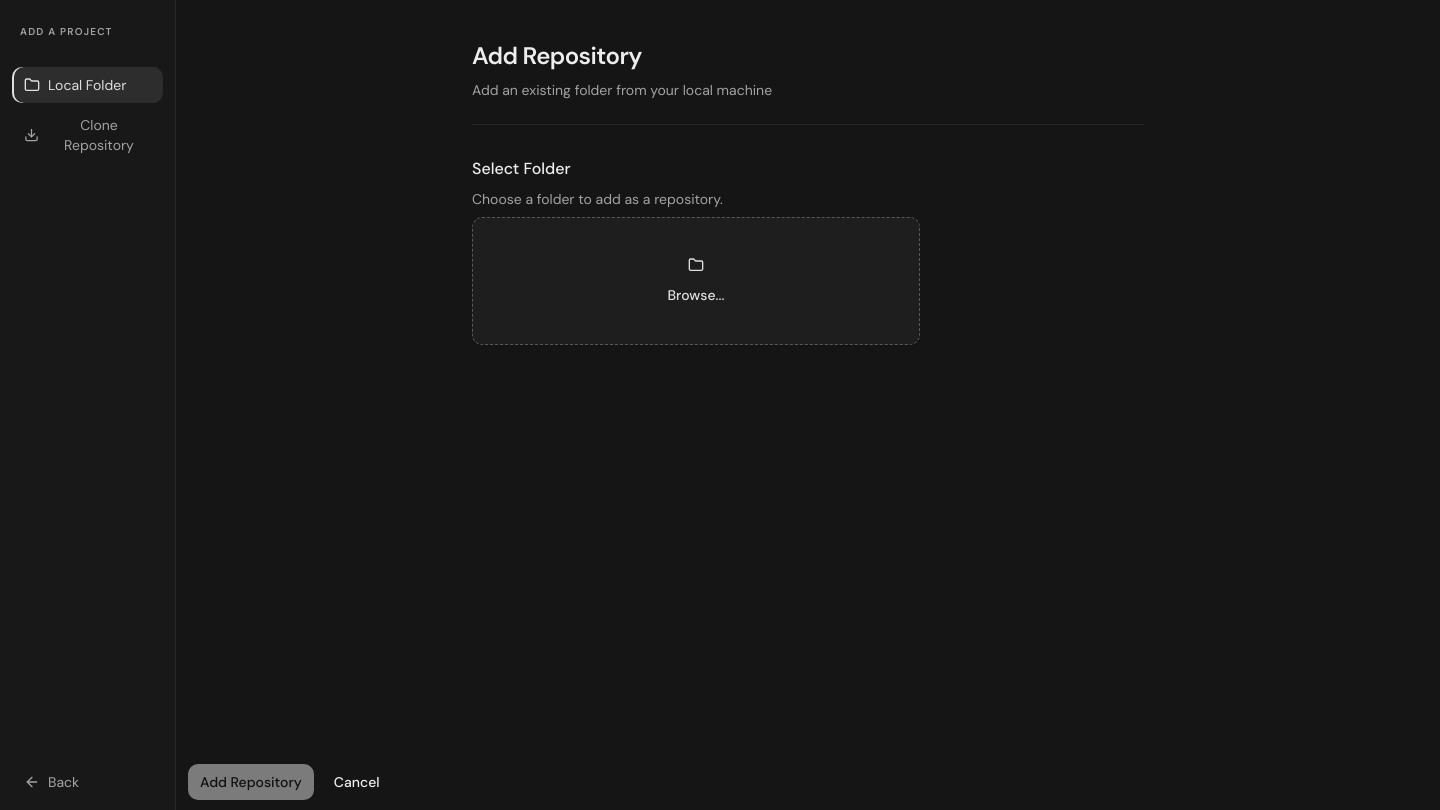
Test case: AddRepositoryScreen › folder selection › shows selected folder after selection
The image size is (1440, 810).
Step 1. Click the button "Browse..." → (696, 295), box [472, 217, 920, 345]
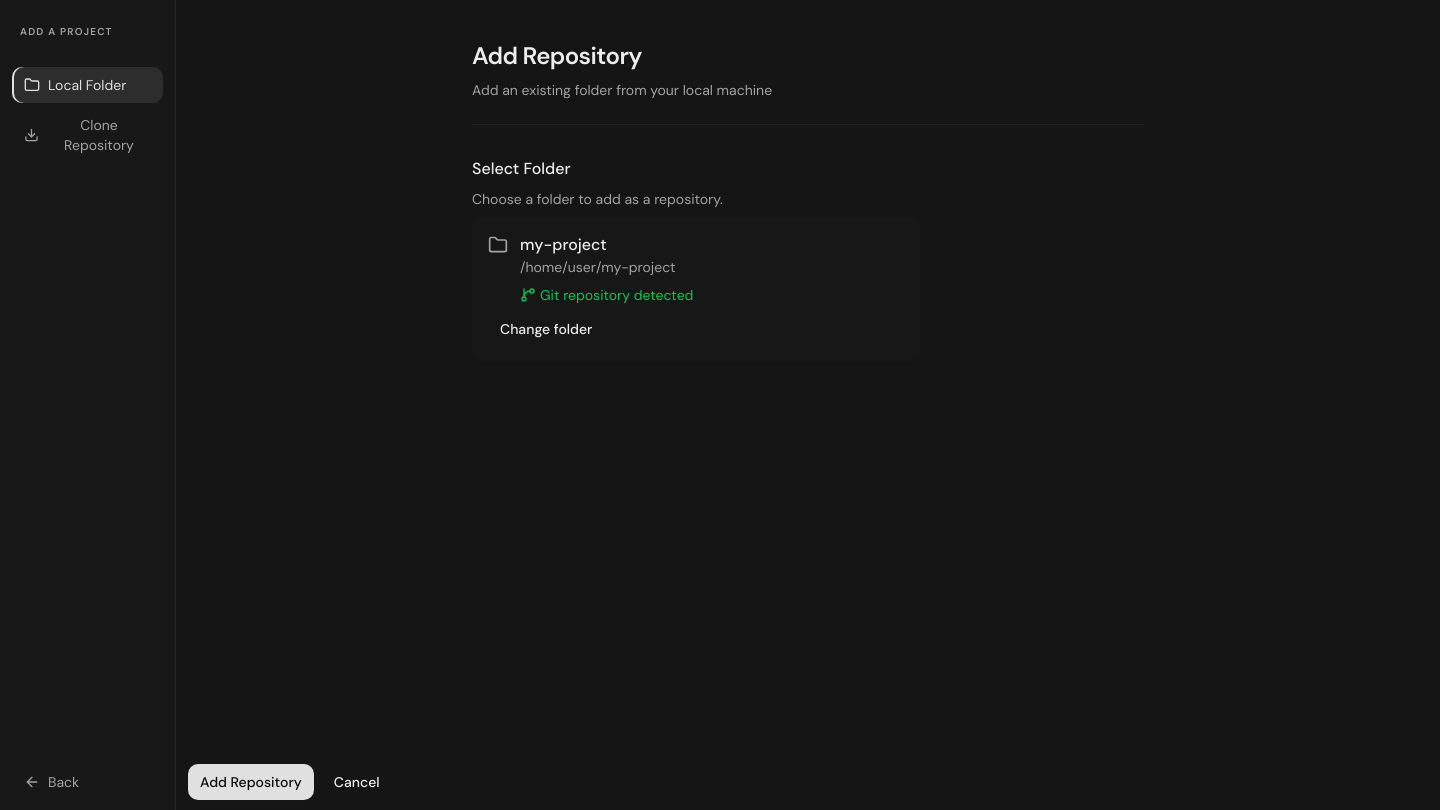
Result: the text "my-project" is shown at [520, 234, 607, 255]
Result: the text "/home/user/my-project" is shown at [520, 258, 675, 276]
Result: the text "Git repository detected" is shown at [540, 285, 693, 305]
